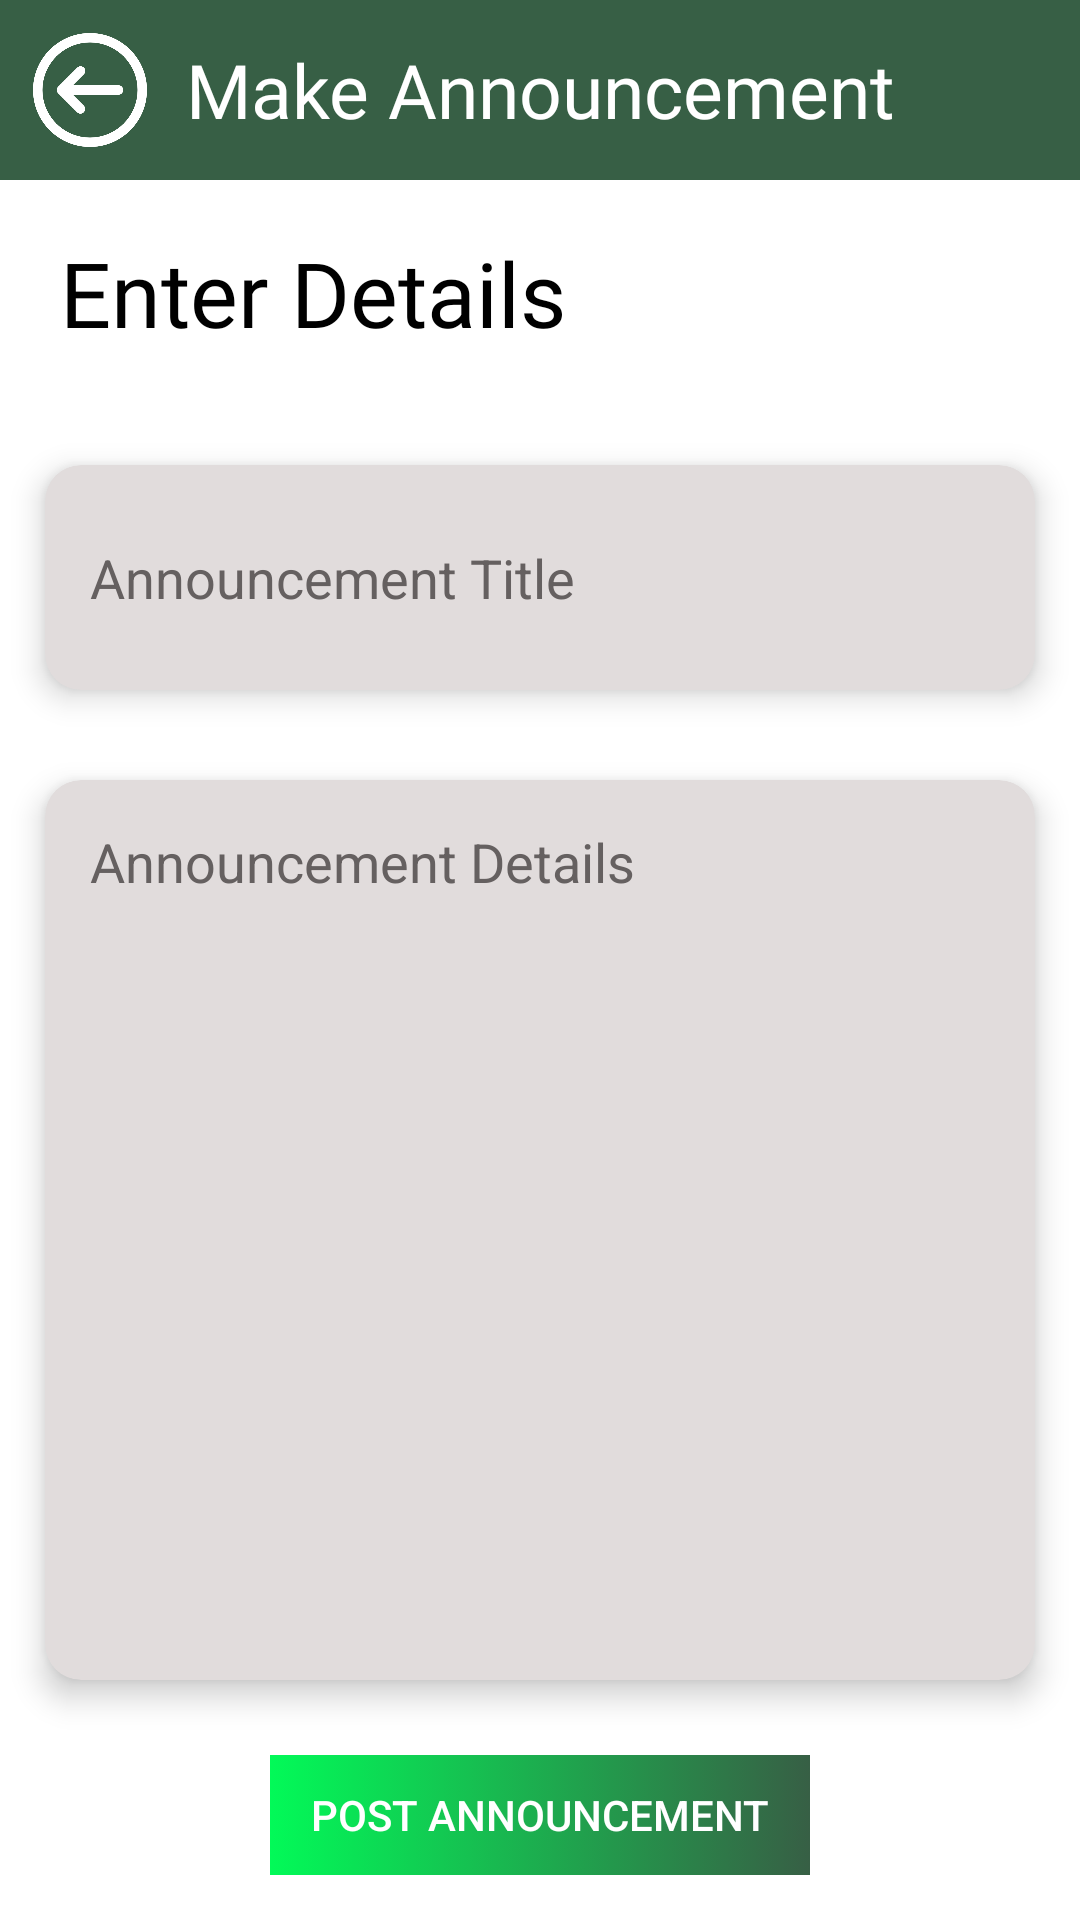

Screen size 1080 x 1920. Icon name, then its box in pixels as (x1, y1, x2, y2):
back: (33, 33, 147, 147)
